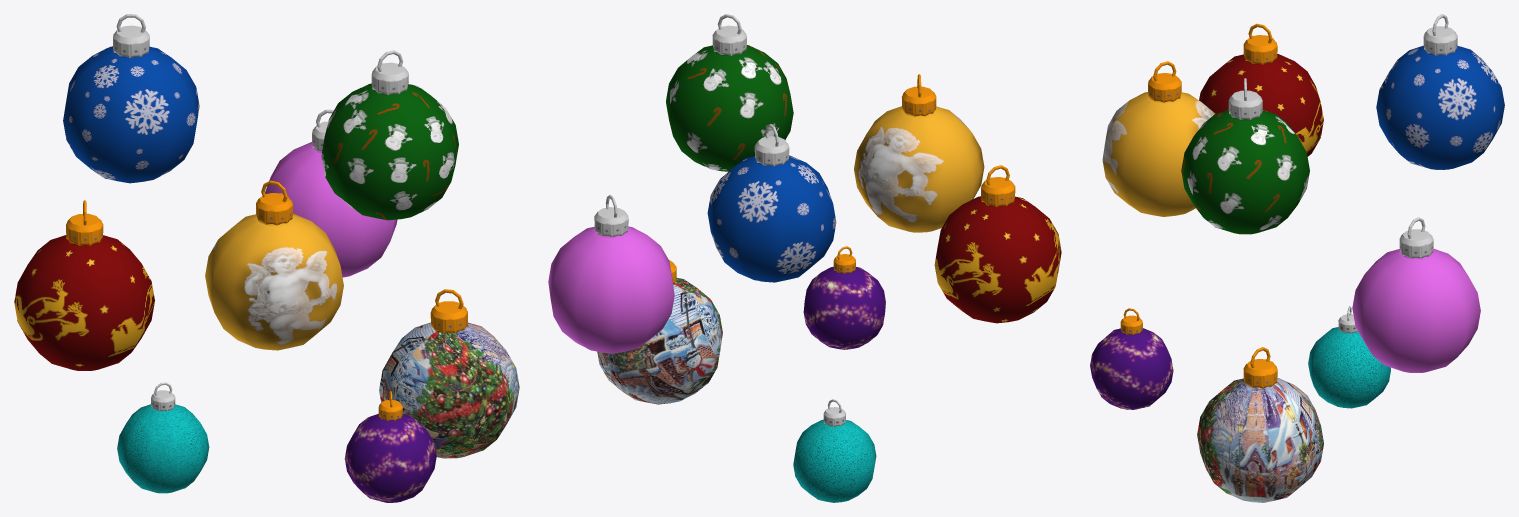
Rendered from christmas_tree_balls.glb.
3 views of the same model, side by side, from view 1: azimuth 30°, elevation 25°; view 2: azimuth 150°, elevation 25°; view 3: azimuth 270°, elevation 25° (orthographic). The views are drawn at different scales.
Parts seen in each view (by area): view 1: pTorus3, pTorus2, pTorus6, pTorus9, pTorus5, pTorus4, pTorus7, pTorus8; view 2: pTorus9, pTorus6, pTorus4, pTorus2, pTorus3, pTorus5, pTorus8, pTorus7; view 3: pTorus4, pTorus6, pTorus5, pTorus3, pTorus2, pTorus9, pTorus8, pTorus7.
Part boxes in pixels (left/top/right/bottom): pTorus3: left=321, top=50, right=458, bottom=220; pTorus2: left=205, top=180, right=343, bottom=350; pTorus6: left=63, top=14, right=199, bottom=183; pTorus9: left=14, top=200, right=154, bottom=370; pTorus5: left=379, top=289, right=519, bottom=458; pTorus4: left=265, top=109, right=397, bottom=277; pTorus7: left=117, top=382, right=209, bottom=493; pTorus8: left=344, top=391, right=436, bottom=502; pTorus9: left=934, top=165, right=1061, bottom=323; pTorus6: left=707, top=124, right=836, bottom=282; pTorus4: left=548, top=194, right=674, bottom=353; pTorus2: left=854, top=74, right=984, bottom=232; pTorus3: left=666, top=14, right=793, bottom=171; pTorus5: left=597, top=260, right=722, bottom=404; pTorus8: left=803, top=246, right=885, bottom=349; pTorus7: left=793, top=399, right=876, bottom=502; pTorus4: left=1352, top=217, right=1480, bottom=372; pTorus6: left=1376, top=14, right=1504, bottom=169; pTorus5: left=1197, top=347, right=1323, bottom=502; pTorus3: left=1181, top=78, right=1309, bottom=234; pTorus2: left=1102, top=61, right=1215, bottom=216; pTorus9: left=1199, top=23, right=1323, bottom=156; pTorus8: left=1090, top=308, right=1173, bottom=409; pTorus7: left=1308, top=306, right=1390, bottom=408.
Size of the model in its own units: 109 by 94.34 by 88.48.
Materials: 16 (16 with a texture image).
